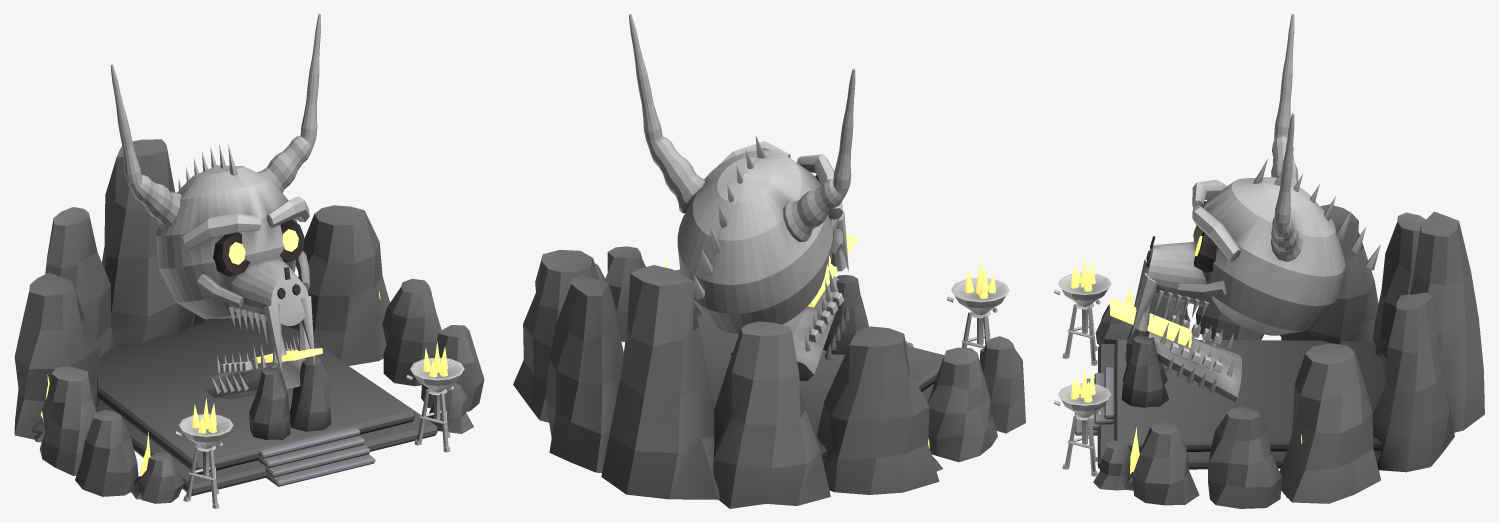
Rendered from skull-of-typhon-l1.glb.
3 renders of one model, left to right at view 1: azimuth 30°, elevation 25°; view 2: azimuth 150°, elevation 25°; view 3: azimuth 270°, elevation 25°, orthographic. The views are drawn at different scales.
Visible parts, largest first — view 1: skull-of-typhon-l1; view 2: skull-of-typhon-l1; view 3: skull-of-typhon-l1.
Part boxes in pixels (box(x1,y1,x2,y2)): skull-of-typhon-l1: box(14, 14, 484, 508); skull-of-typhon-l1: box(513, 14, 1025, 508); skull-of-typhon-l1: box(1054, 14, 1484, 508).
Size of the model in its own units: 1.47 by 1.26 by 1.4.
